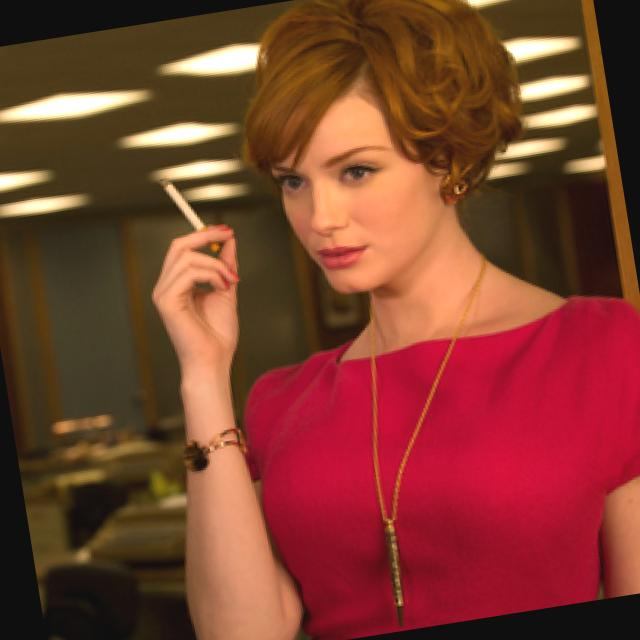smoke: (138, 143, 238, 272)
